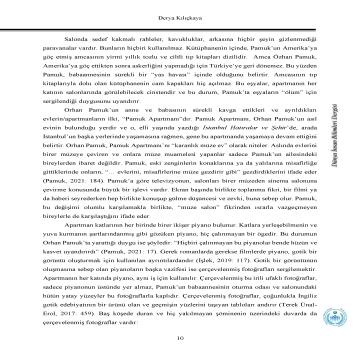header: (155, 14, 206, 22)
